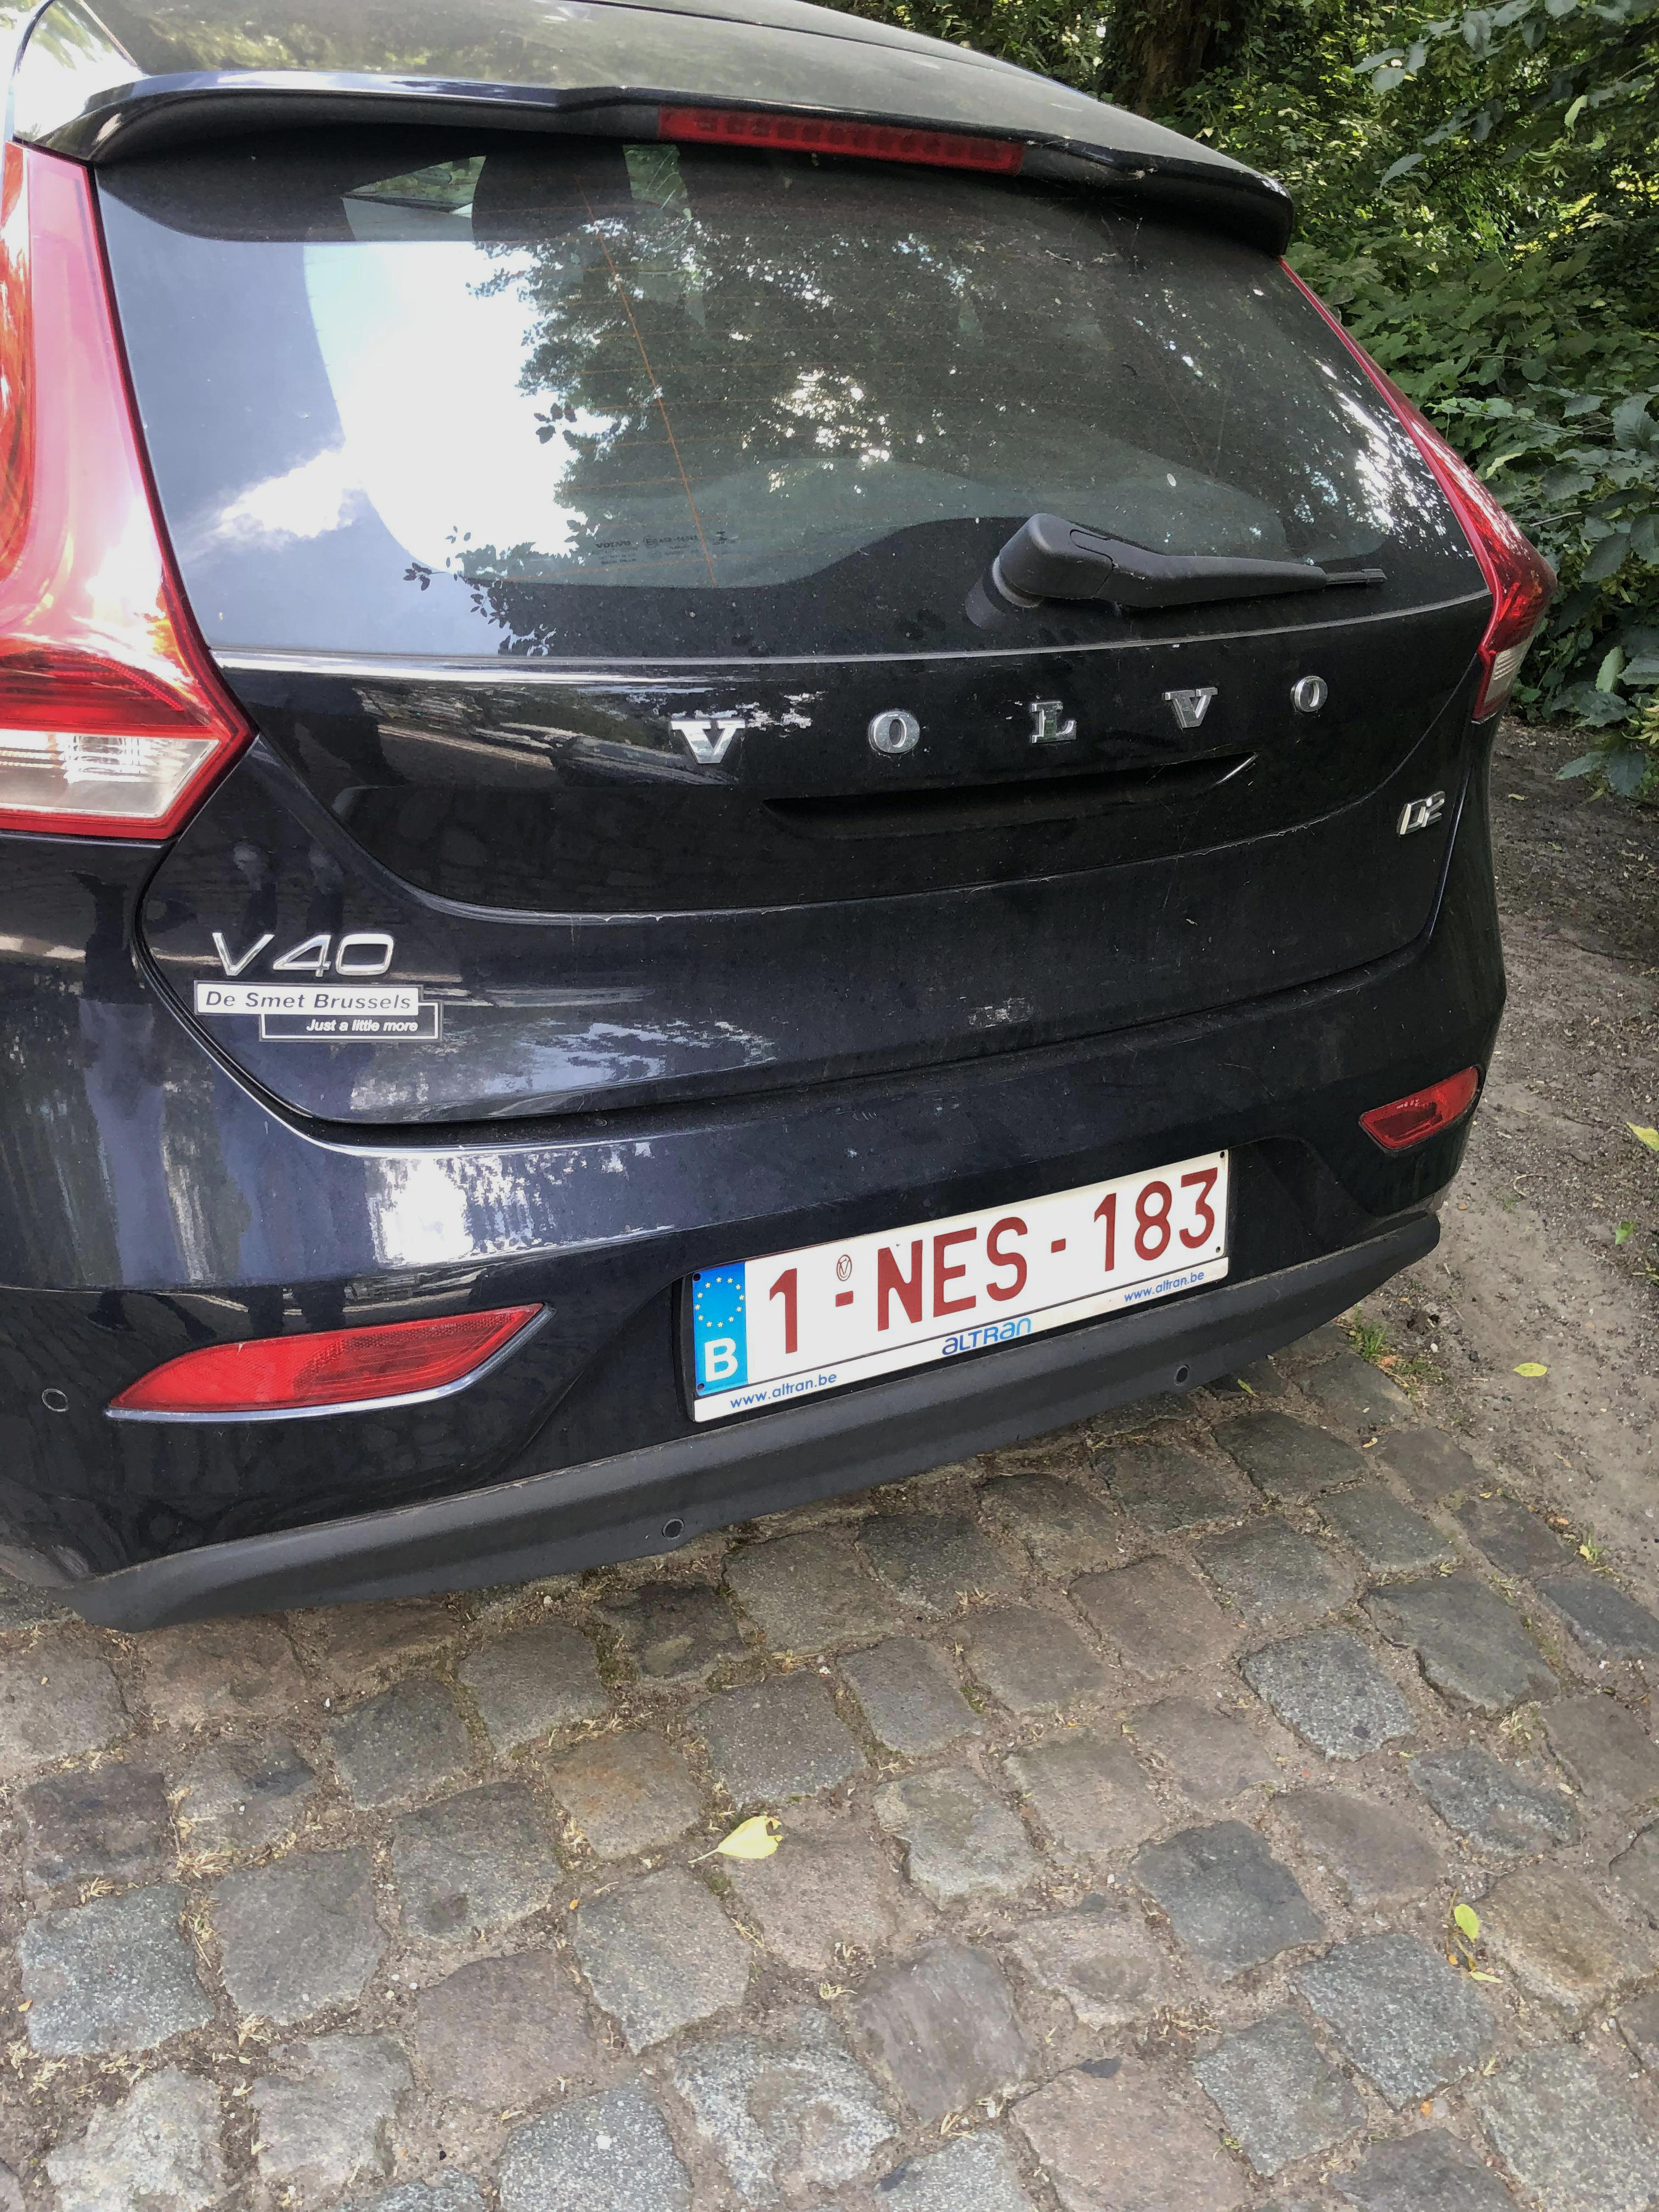plate: (663, 1137, 1248, 1438)
